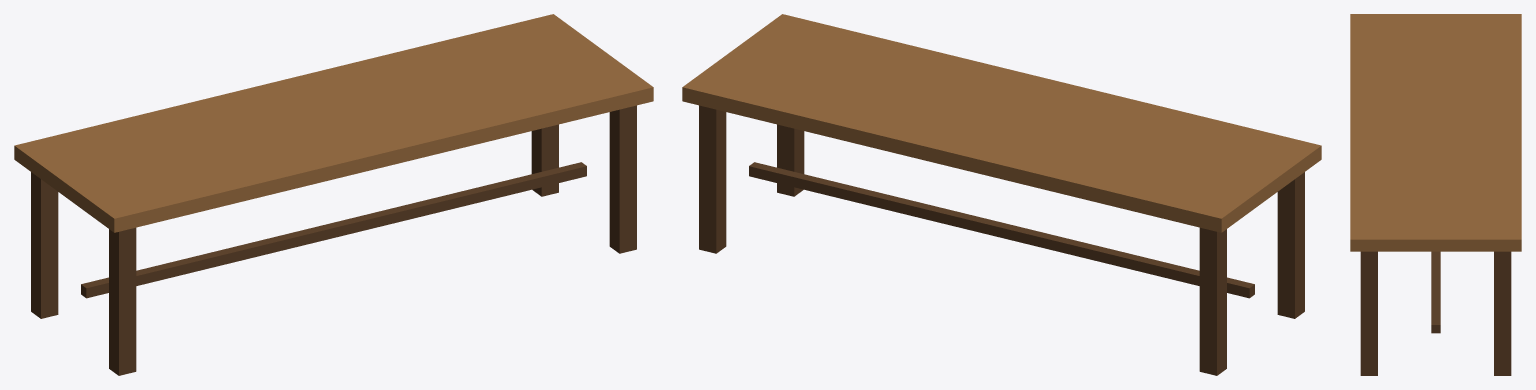
Rendered from table_2.glb.
3 renders of one model, left to right at view 1: azimuth 30°, elevation 25°; view 2: azimuth 150°, elevation 25°; view 3: azimuth 270°, elevation 25°, orthographic. The views are drawn at different scales.
Visible parts, largest first — view 1: table_2; view 2: table_2; view 3: table_2.
Boxes of the visible parts, bbox=[...] form: table_2: bbox=[14, 14, 653, 375]; table_2: bbox=[682, 14, 1321, 375]; table_2: bbox=[1350, 14, 1521, 375].
Size of what is drawn, in the model's own units: 2.8 by 0.815 by 0.9.
